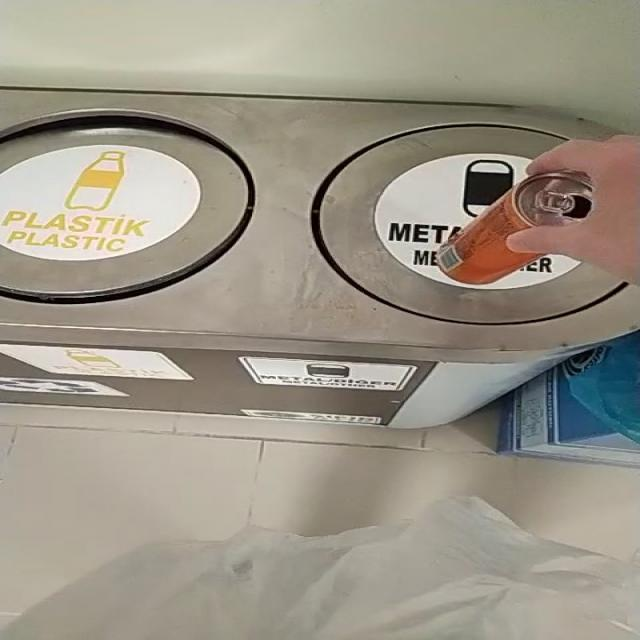Bin: (1, 88, 639, 428)
Metal: (437, 172, 595, 284)
